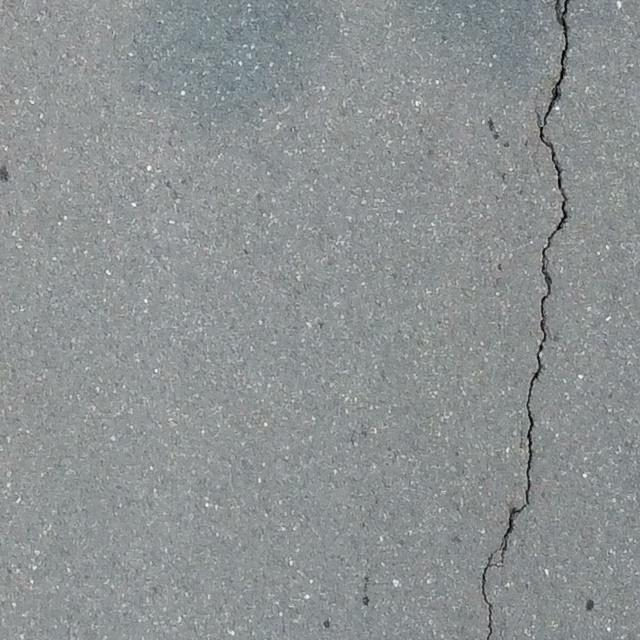LongitudinalCrack: (478, 1, 571, 640)
